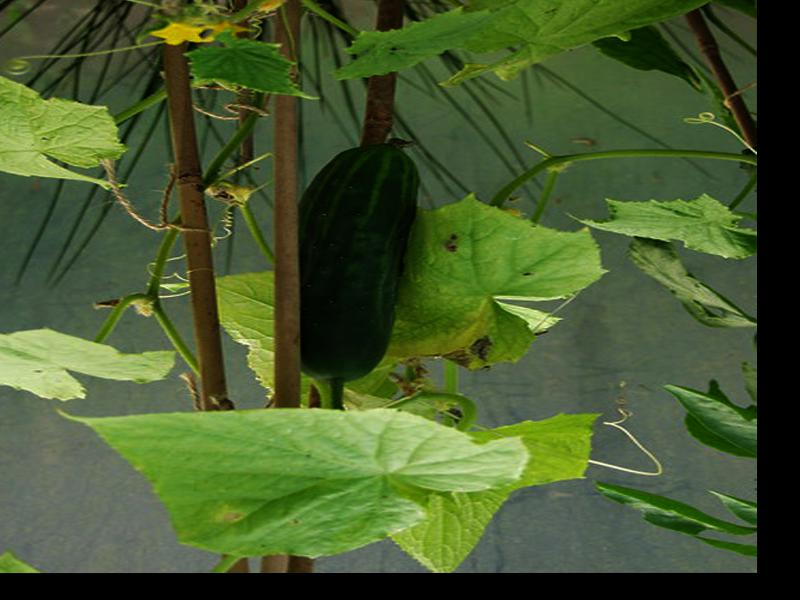Cucumber: (297, 139, 421, 381)
